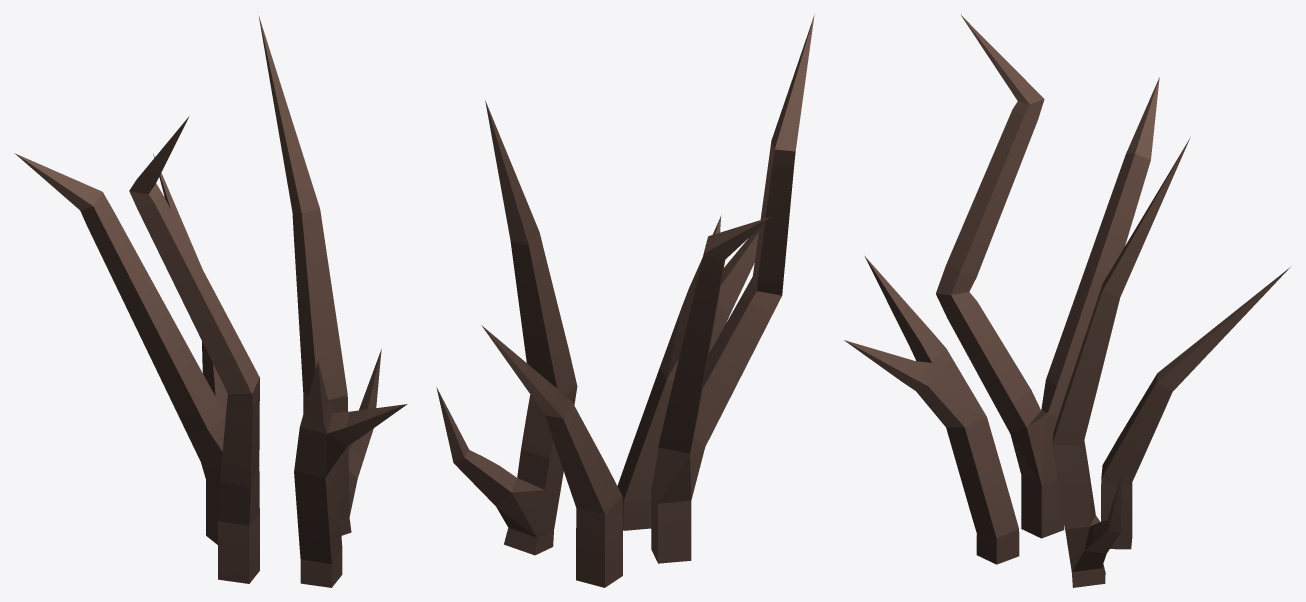
Rendered from Scrub1.fbx.
3 renders of one model, left to right at view 1: azimuth 30°, elevation 25°; view 2: azimuth 150°, elevation 25°; view 3: azimuth 270°, elevation 25°, orthographic. The views are drawn at different scales.
Visible parts, largest first — view 1: Shrub1; view 2: Shrub1; view 3: Shrub1.
Part boxes in pixels (x1=…): Shrub1: x1=14, y1=15, x2=407, y2=587; Shrub1: x1=436, y1=14, x2=814, y2=587; Shrub1: x1=844, y1=14, x2=1290, y2=587.
Bounding box in the file's own units: 915 × 1310 × 1116.
